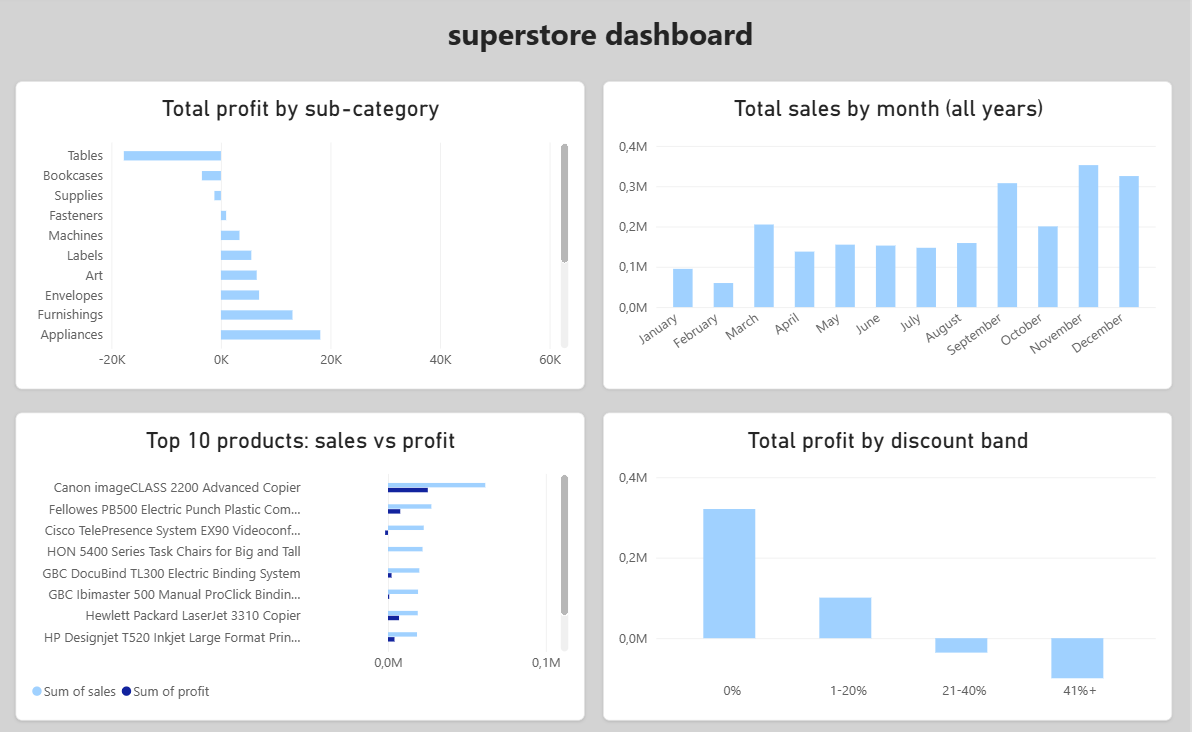

Layout of this report page (visuals, bound fields, positions):
{"tool":"powerbi","page":{"name":"Page 1","canvas":[1280,800],"ordinal":0},"visuals":[{"type":"clusteredBarChart","title":"Total profit by sub-category","fields":{"Category":["orders_clean.sub_category"],"Y":["Sum(orders_clean.profit)"]},"box":[18.8,92.5,610,330],"z":0},{"type":"clusteredColumnChart","title":"Total sales by month (all years)","fields":{"Category":["orders_clean.order_date.Variation.Date Hierarchy.Month"],"Y":["Sum(orders_clean.sales)"]},"box":[648.8,92.5,610,330],"z":1},{"type":"clusteredBarChart","title":"Top 10 products: sales vs profit","fields":{"Category":["orders_clean.product_name"],"Y":["Sum(orders_clean.sales)","Sum(orders_clean.profit)"]},"box":[18.8,447.7,610,330],"z":2},{"type":"clusteredColumnChart","title":"Total profit by discount band","fields":{"Category":["orders_clean.Discount Band"],"Y":["Sum(orders_clean.profit)"]},"box":[648.8,447.7,610,330],"z":3},{"type":"textbox","box":[482.6,18.8,447.7,53.6],"z":4}]}

Visuals, with their boxes in screenshot pixels (x1, y1, x2, y2), scaled from the page's 1280x800 canvas onto the 1192x732 screenshot:
"Total profit by sub-category" clusteredBarChart: (18, 85, 586, 387)
"Total sales by month (all years)" clusteredColumnChart: (604, 85, 1172, 387)
"Top 10 products: sales vs profit" clusteredBarChart: (18, 410, 586, 712)
"Total profit by discount band" clusteredColumnChart: (604, 410, 1172, 712)
textbox: (449, 17, 866, 66)
